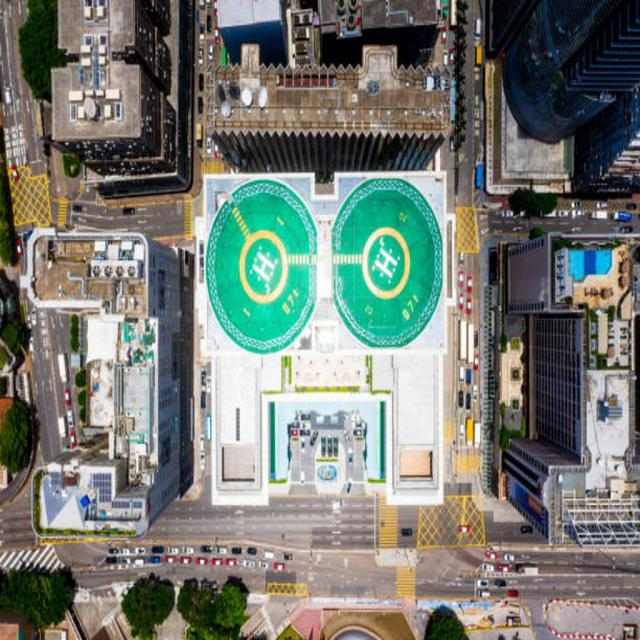helipad: (237, 229, 289, 303), (360, 226, 410, 298)
